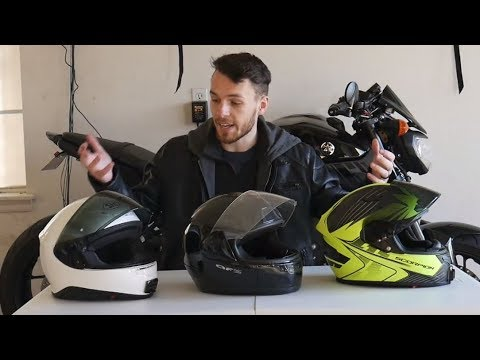with_helmet: (315, 180, 460, 295), (34, 188, 166, 304), (179, 187, 307, 300)
